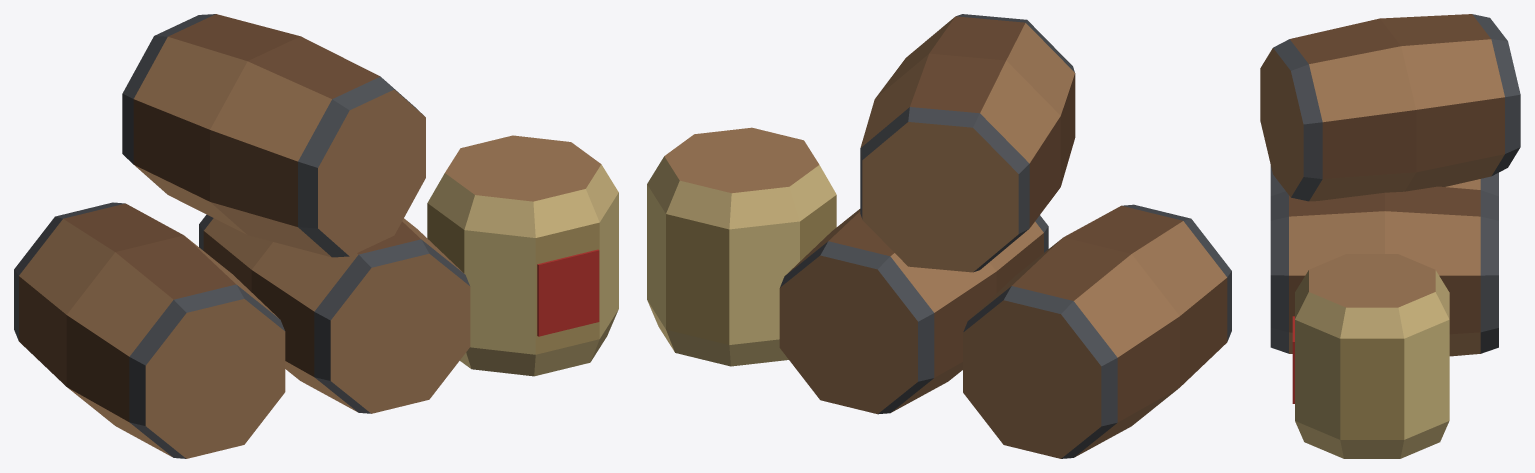
The model's file is barrel_stack.fbx.
3 renders of one model, left to right at view 1: azimuth 30°, elevation 25°; view 2: azimuth 150°, elevation 25°; view 3: azimuth 270°, elevation 25°, orthographic. The views are drawn at different scales.
Visible parts, largest first — view 1: barrel_stack; view 2: barrel_stack; view 3: barrel_stack.
Boxes of the visible parts, box(x1,y1,x2,y2) form: barrel_stack: box(14, 14, 618, 458); barrel_stack: box(647, 14, 1231, 458); barrel_stack: box(1260, 14, 1520, 458).
Size of the model in its own units: 2.08 by 1.29 by 1.03.
